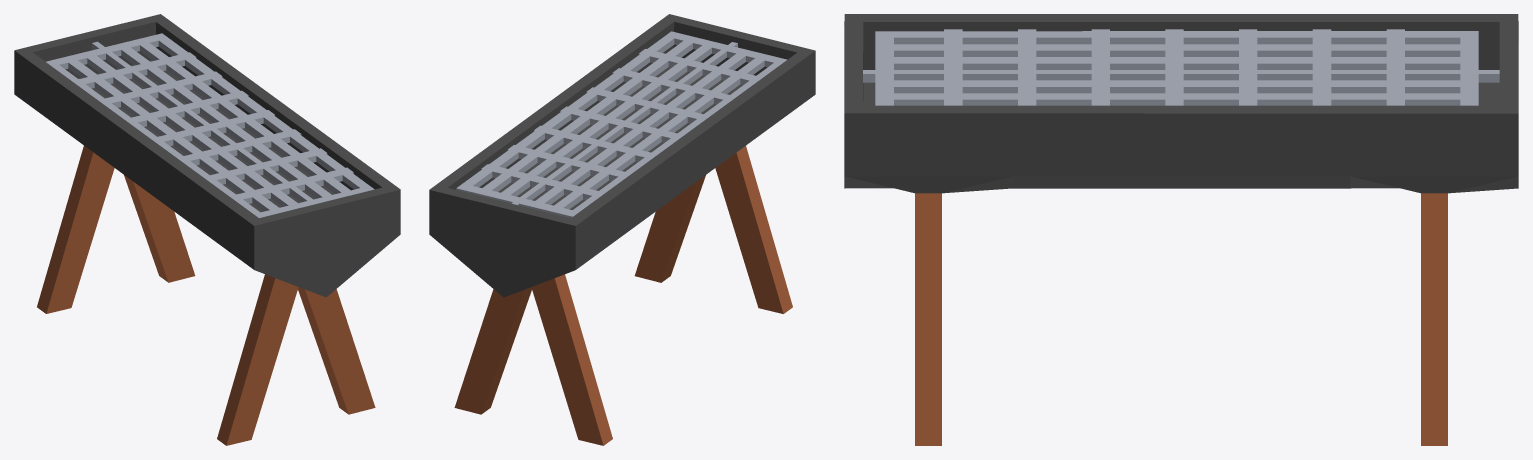
File: Grill_Big_Open.fbx
3 views of the same model, side by side, from view 1: azimuth 30°, elevation 25°; view 2: azimuth 150°, elevation 25°; view 3: azimuth 270°, elevation 25° (orthographic). The views are drawn at different scales.
Parts seen in each view (by area): view 1: big grill.001, grill griller.001; view 2: big grill.001, grill griller.001; view 3: big grill.001, grill griller.001.
Part boxes in pixels (x1,y1,x2,y2): big grill.001: (14, 14, 400, 445); grill griller.001: (46, 33, 374, 217); big grill.001: (429, 14, 815, 445); grill griller.001: (456, 31, 786, 218); big grill.001: (844, 14, 1518, 445); grill griller.001: (863, 29, 1499, 105).
Bounding box in the file's own units: 856 × 1308 × 2386.
